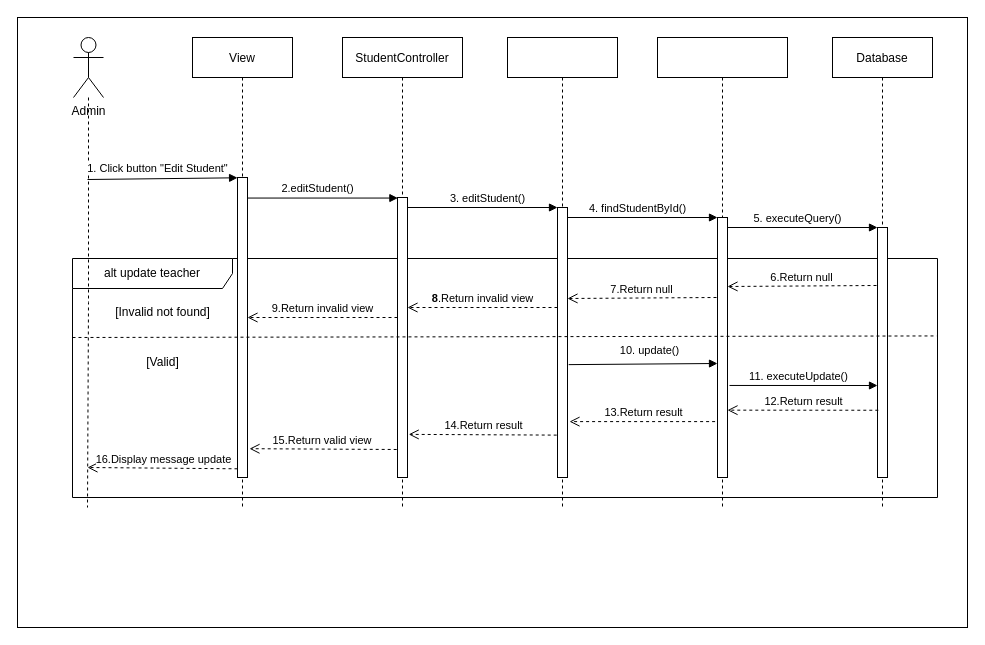
This 985x645 diagram has some shape labels left out. The shapes that lost their labels are listed below. From the top down, each one's box as (x1, y1, x2, y2) in pixels, then its label:
(506, 36, 618, 508): StudentService
(656, 36, 788, 508): StudentRepository
